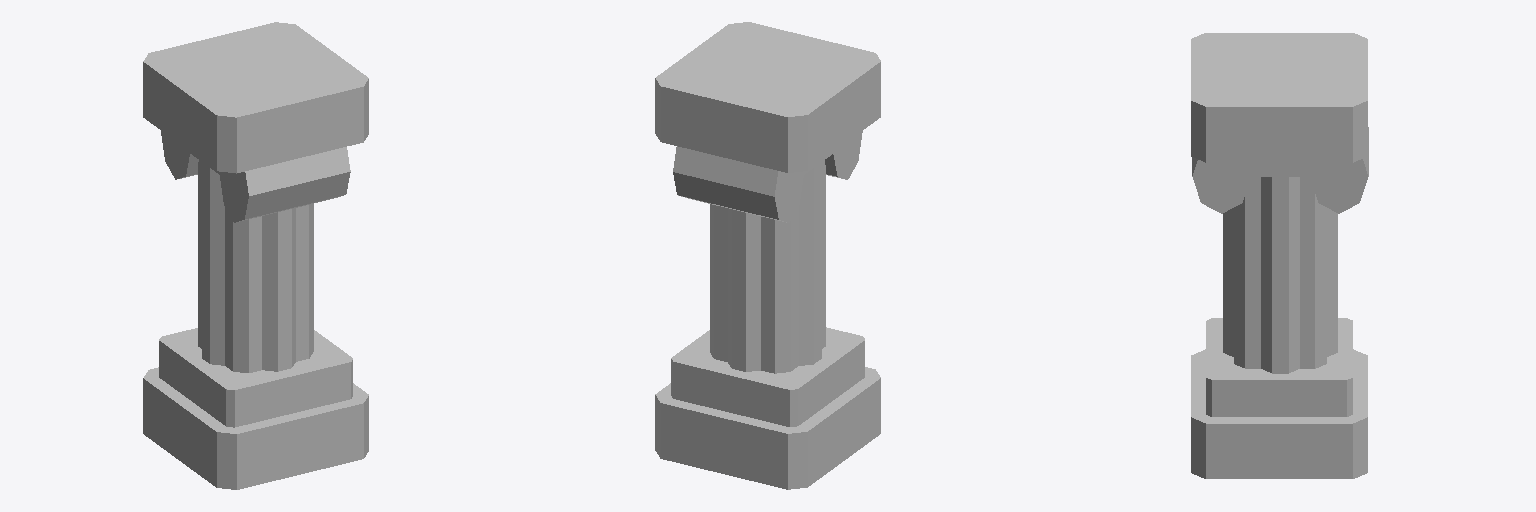
Rendered from @column.008.obj.
3 views of the same model, side by side, from view 1: azimuth 30°, elevation 25°; view 2: azimuth 150°, elevation 25°; view 3: azimuth 270°, elevation 25° (orthographic).
Parts seen in each view (by area): view 1: column.003; view 2: column.003; view 3: column.003.
Boxes of the visible parts, x1,y1,x2,y2 form: column.003: [143, 22, 368, 489]; column.003: [655, 22, 880, 489]; column.003: [1191, 33, 1368, 478].
Size of the model in its own units: 3 by 7 by 3.02.